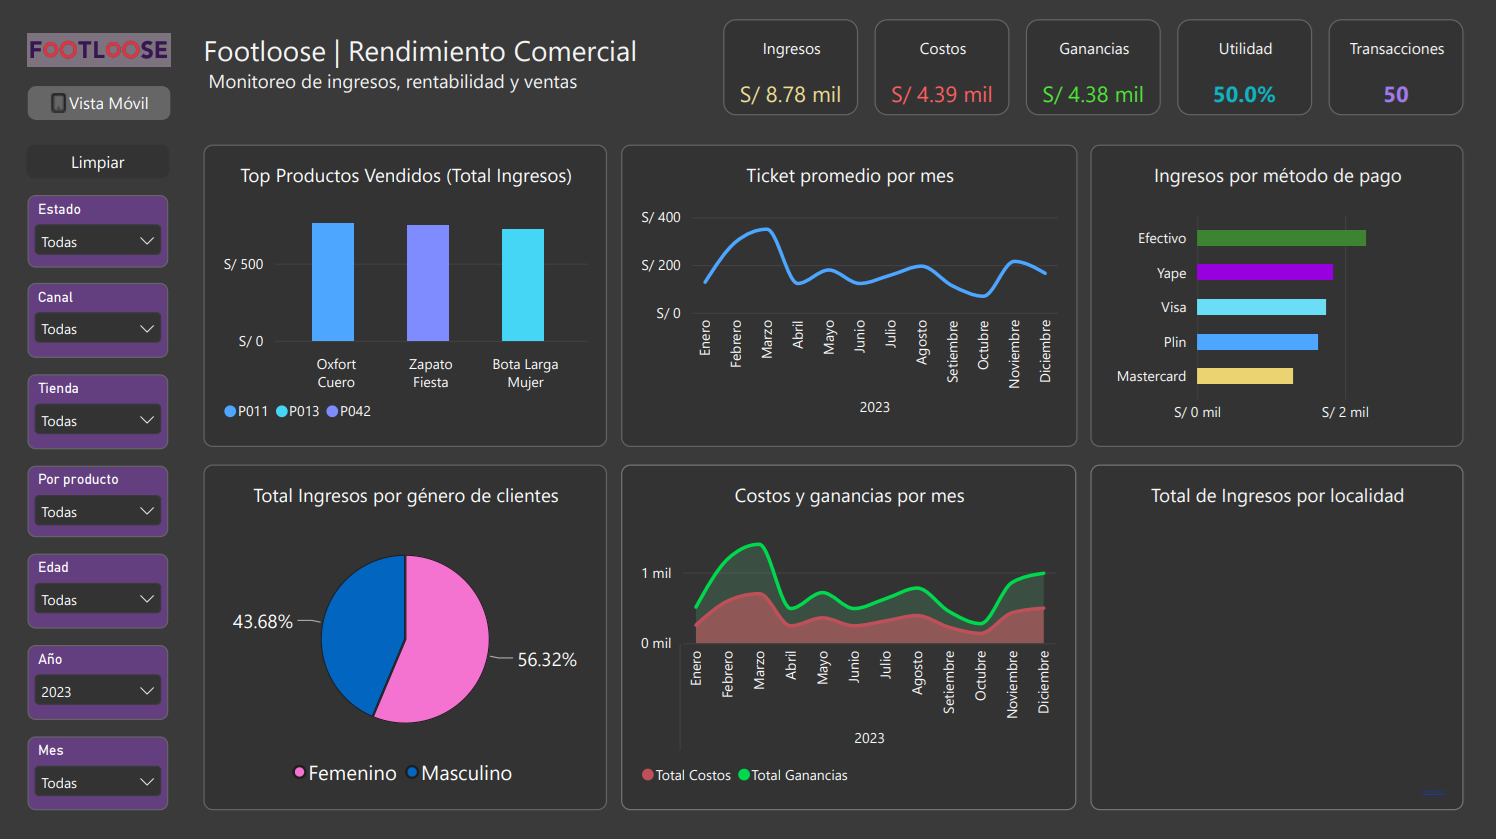

This screenshot's page, from the dashboard's own definition file:
{"tool":"powerbi","page":{"name":"Dashboard","canvas":[1280,720],"ordinal":0},"visuals":[{"type":"image","box":[25,30,122.2,28.9],"z":1000},{"type":"lineChart","title":"Ticket promedio por mes","fields":{"Category":["Calendario2.Jerarquia de fechas.Año","Calendario2.Jerarquia de fechas.Mes"],"Y":["gold_reporte_ventas.Promedio Ingresos"]},"box":[531.2,125,388.8,257.5],"z":2000},{"type":"columnChart","title":"Top Productos Vendidos (Total Ingresos)","fields":{"Category":["silver_productos.nombre_producto"],"Series":["gold_reporte_ventas.id_producto"],"Y":["gold_reporte_ventas.Total Ingresos"]},"box":[175,125,343.8,257.5],"z":3000},{"type":"card","title":"Ingresos","fields":{"Values":["gold_reporte_ventas.Total Ventas"]},"box":[617.8,18,115,82],"z":4000},{"type":"slicer","fields":{"Values":["Calendario2.Jerarquia de fechas.Mes"]},"box":[25.3,630,120,63],"z":5000},{"type":"card","title":"Costos","fields":{"Values":["gold_reporte_ventas.Total Costos"]},"box":[746.8,17.7,115,82],"z":6000},{"type":"card","title":"Ganancias","fields":{"Values":["gold_reporte_ventas.Total Ganancias"]},"box":[875.8,17.8,115,82],"z":7000},{"type":"slicer","fields":{"Values":["Calendario2.Año"]},"box":[25.3,552.1,120,64],"z":9000},{"type":"stackedAreaChart","title":"Costos y ganancias por mes","fields":{"Category":["Calendario2.Jerarquia de fechas.Año","Calendario2.Jerarquia de fechas.Mes"],"Y":["gold_reporte_ventas.Total Costos","gold_reporte_ventas.Total Ganancias"]},"box":[530.6,397.5,388.8,295],"z":11000},{"type":"actionButton","title":"Limpiar filtros","box":[24.4,125,121.9,29.4],"z":12000},{"type":"slicer","fields":{"Values":["gold_reporte_ventas.id_tienda"]},"box":[25.3,321.4,120,64],"z":13000},{"type":"card","title":"Transacciones","fields":{"Values":["gold_reporte_ventas.Cant Transacciones"]},"box":[1133.8,17.5,115,82],"z":14000},{"type":"slicer","fields":{"Values":["silver_productos.categoria","silver_productos.nombre_producto","gold_reporte_ventas.id_producto"]},"box":[25.3,399.3,120,61],"z":15000},{"type":"slicer","title":"Edad","fields":{"Values":["silver_clientes.rango_edad"]},"box":[25.3,474.2,120,64],"z":16000},{"type":"slicer","fields":{"Values":["gold_reporte_ventas.canal_venta"]},"box":[25.3,243.4,120,64],"z":17000},{"type":"slicer","fields":{"Values":["gold_reporte_ventas.estado_venta"]},"box":[25.3,168.3,120,61.2],"z":18000},{"type":"card","title":"Utilidad","fields":{"Values":["gold_reporte_ventas.Margen Utilidad"]},"box":[1004.8,18.1,115,82],"z":19000},{"type":"textbox","box":[175,27.5,412.5,62.5],"z":20000},{"type":"barChart","title":"Ingresos por método de pago","fields":{"Category":["gold_reporte_ventas.metodo_pago"],"Y":["gold_reporte_ventas.Total Ventas"]},"box":[931.2,125,317.5,257.5],"z":20001},{"type":"pieChart","title":"Total Ingresos por género de clientes","fields":{"Category":["silver_clientes.genero"],"Y":["gold_reporte_ventas.Total Ingresos"]},"box":[175,397.5,343.8,295],"z":20002},{"type":"azureMap","title":"Total de Ingresos por localidad","fields":{"Category":["silver_clientes.localidad"],"Size":["Sum(gold_reporte_ventas.ingresos)"]},"box":[931.2,397.5,317.5,295],"z":20003},{"type":"actionButton","title":"Limpiar filtros","box":[25,75,121.9,29.4],"z":20004}]}

Visuals, with their boxes in screenshot pixels (x1, y1, x2, y2), scaled from the page's 1280x720 canvas onto the 1496x839 screenshot:
image: rect(29, 35, 172, 69)
"Ticket promedio por mes" lineChart: rect(621, 146, 1075, 446)
"Top Productos Vendidos (Total Ingresos)" columnChart: rect(205, 146, 606, 446)
"Ingresos" card: rect(722, 21, 856, 117)
slicer - Calendario2.Jerarquia de fechas.Mes: rect(30, 734, 170, 808)
"Costos" card: rect(873, 21, 1007, 116)
"Ganancias" card: rect(1024, 21, 1158, 116)
slicer - Calendario2.Año: rect(30, 643, 170, 718)
"Costos y ganancias por mes" stackedAreaChart: rect(620, 463, 1075, 807)
"Limpiar filtros" actionButton: rect(29, 146, 171, 180)
slicer - gold_reporte_ventas.id_tienda: rect(30, 375, 170, 449)
"Transacciones" card: rect(1325, 20, 1460, 116)
slicer - silver_productos.categoria x silver_productos.nombre_producto: rect(30, 465, 170, 536)
"Edad" slicer: rect(30, 553, 170, 627)
slicer - gold_reporte_ventas.canal_venta: rect(30, 284, 170, 358)
slicer - gold_reporte_ventas.estado_venta: rect(30, 196, 170, 267)
"Utilidad" card: rect(1174, 21, 1309, 117)
textbox: rect(205, 32, 687, 105)
"Ingresos por método de pago" barChart: rect(1088, 146, 1459, 446)
"Total Ingresos por género de clientes" pieChart: rect(205, 463, 606, 807)
"Total de Ingresos por localidad" azureMap: rect(1088, 463, 1459, 807)
"Limpiar filtros" actionButton: rect(29, 87, 172, 122)
